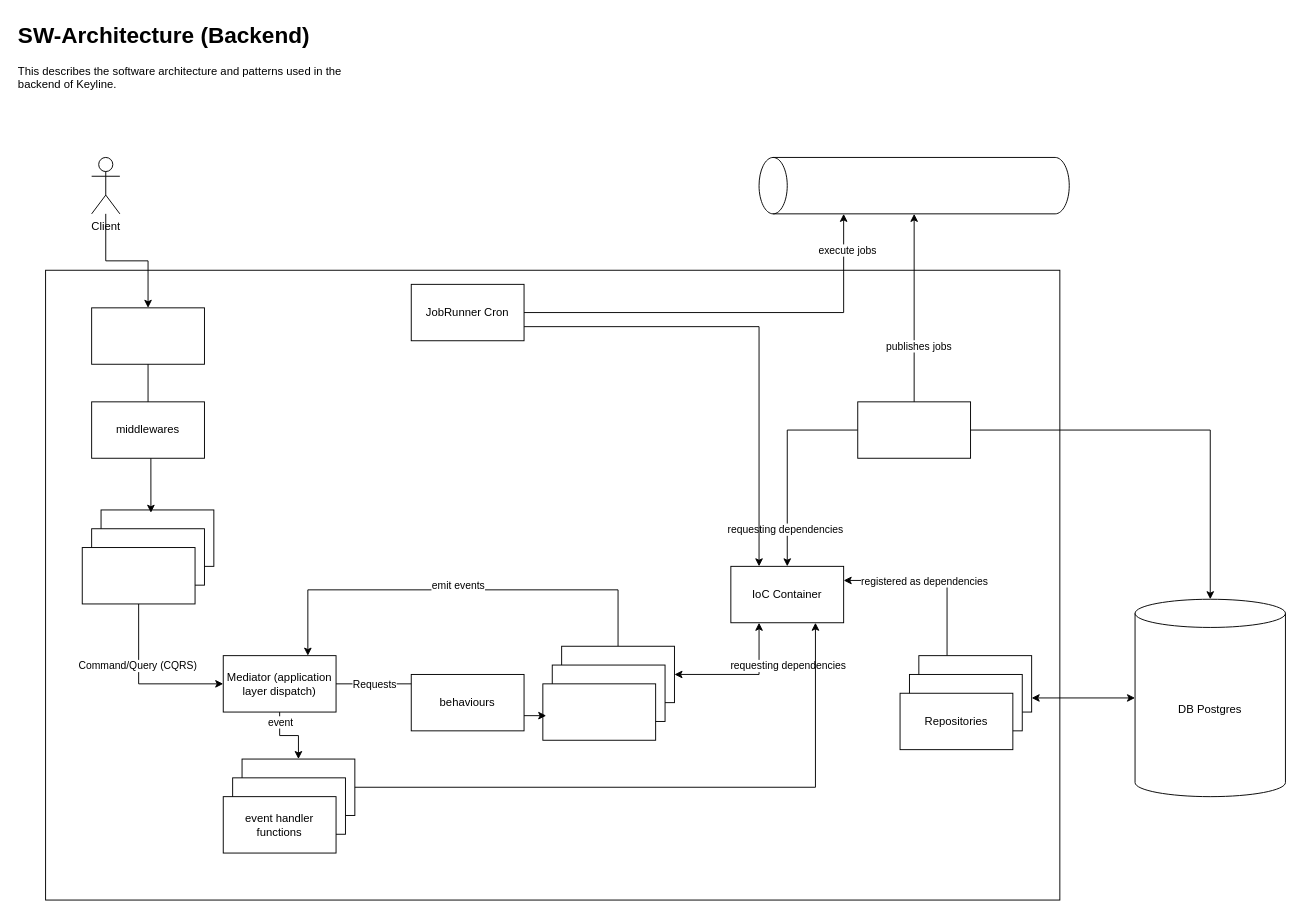
Image size: 1302x917. Some labels were removed from this diagram. The centre of each missing label's shape, as x and y in pixels:
gorilla mux router (http routing): (x=147, y=335)
http handler functions: (x=138, y=575)
Outbox Cron: (x=914, y=429)
RabbitMQ: (x=913, y=185)
request handler functions: (x=599, y=711)
